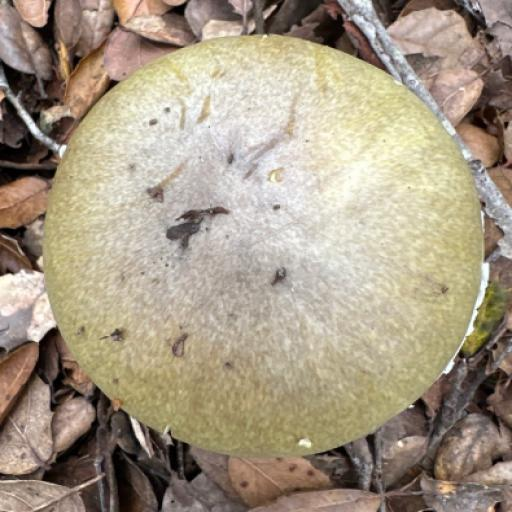Death Cap: (1, 0, 512, 489)
